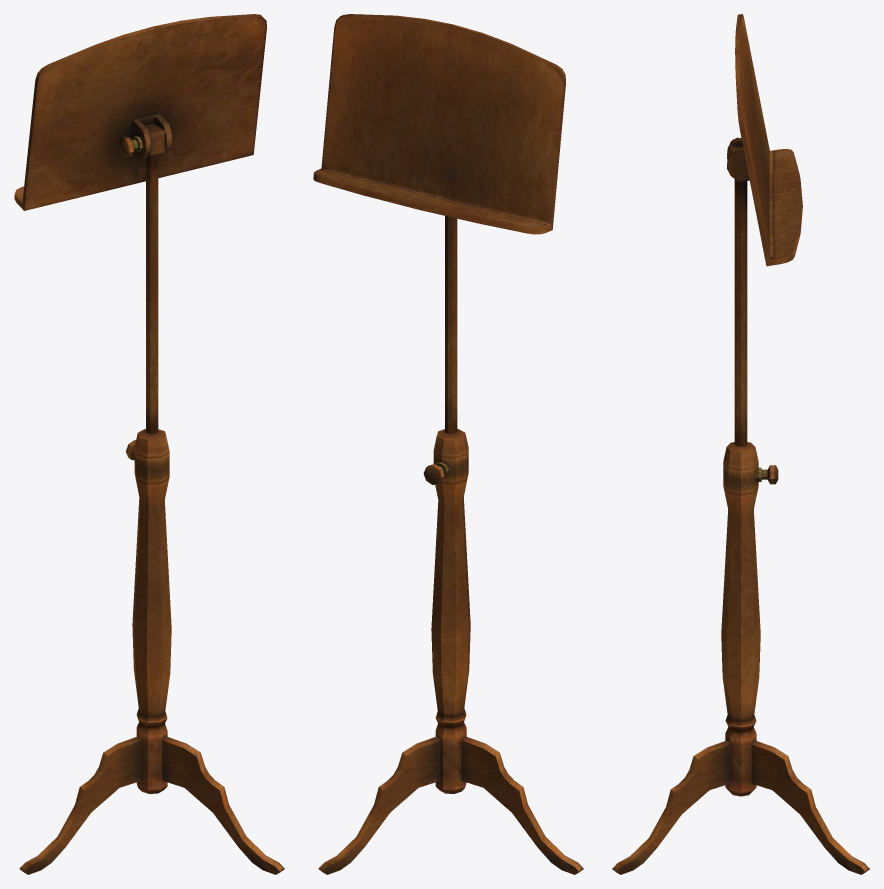
Rendered from lectern.glb.
The picture shows the model from 3 angles, left to right: view 1: azimuth 30°, elevation 25°; view 2: azimuth 150°, elevation 25°; view 3: azimuth 270°, elevation 25°; orthographic projection. The views are drawn at different scales.
Parts seen in each view (by area): view 1: lectern; view 2: lectern; view 3: lectern.
Boxes of the visible parts, x1=… form: lectern: x1=14, y1=14, x2=284, y2=874; lectern: x1=313, y1=14, x2=583, y2=874; lectern: x1=612, y1=14, x2=869, y2=874.
Bounding box in the file's own units: 0.3784 × 1.2 × 0.3531.
Materials: 1 (1 with a texture image).
